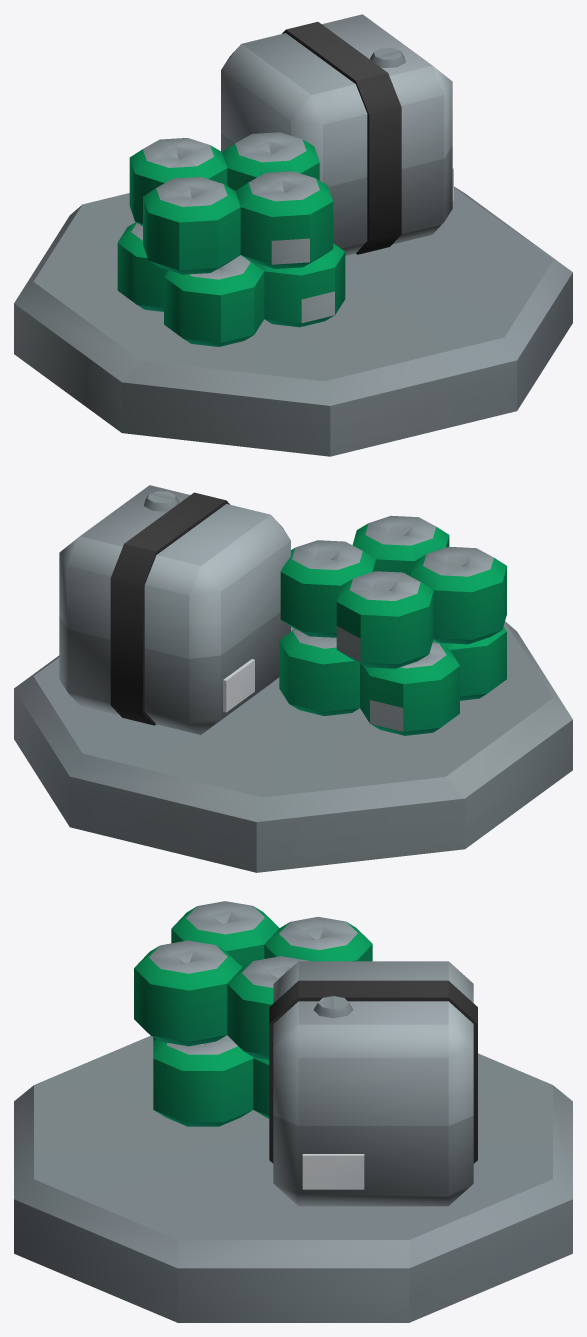
File: kay-teto-carga.gltf
The picture shows the model from 3 angles, top to bottom: view 1: azimuth 30°, elevation 25°; view 2: azimuth 150°, elevation 25°; view 3: azimuth 270°, elevation 25°; orthographic projection. The views are drawn at different scales.
Visible parts, largest first — view 1: roofmodule_cargo_A; view 2: roofmodule_cargo_A; view 3: roofmodule_cargo_A.
Boxes of the visible parts, x1,y1,x2,y2 form: roofmodule_cargo_A: (14, 14, 572, 456); roofmodule_cargo_A: (14, 485, 572, 872); roofmodule_cargo_A: (14, 901, 572, 1322).
Size of the model in its own units: 3.63 by 1.87 by 3.63.
Materials: 1 (1 with a texture image).
